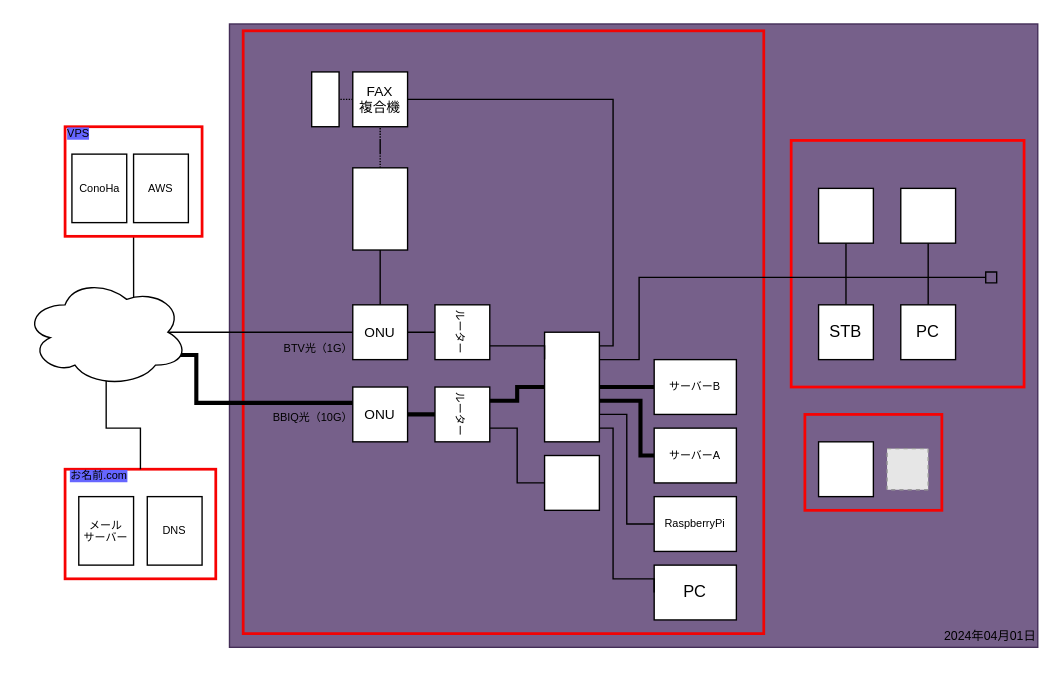
This 1062x684 diagram has some shape labels left out. Grey dashed boxes stand in for pictures. The centre of each missing label's shape, as x and y in pixels:
"Internet" goes at (x=105, y=331).
"L3 スイッチ" goes at (x=571, y=386).
"TV" goes at (x=845, y=215).
"Wi-Fi ルーター" goes at (x=571, y=482).
"中継機" goes at (x=845, y=468).
"光電話" goes at (x=379, y=208).
"録画機" goes at (x=927, y=215).
"電話機" goes at (x=324, y=99).
